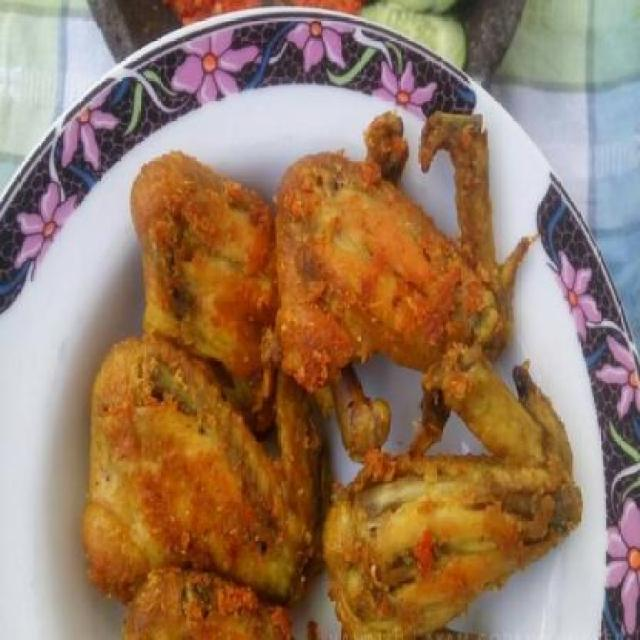Wet Waste: (322, 357, 586, 638), (86, 346, 322, 639), (276, 105, 532, 372), (128, 159, 298, 386)
